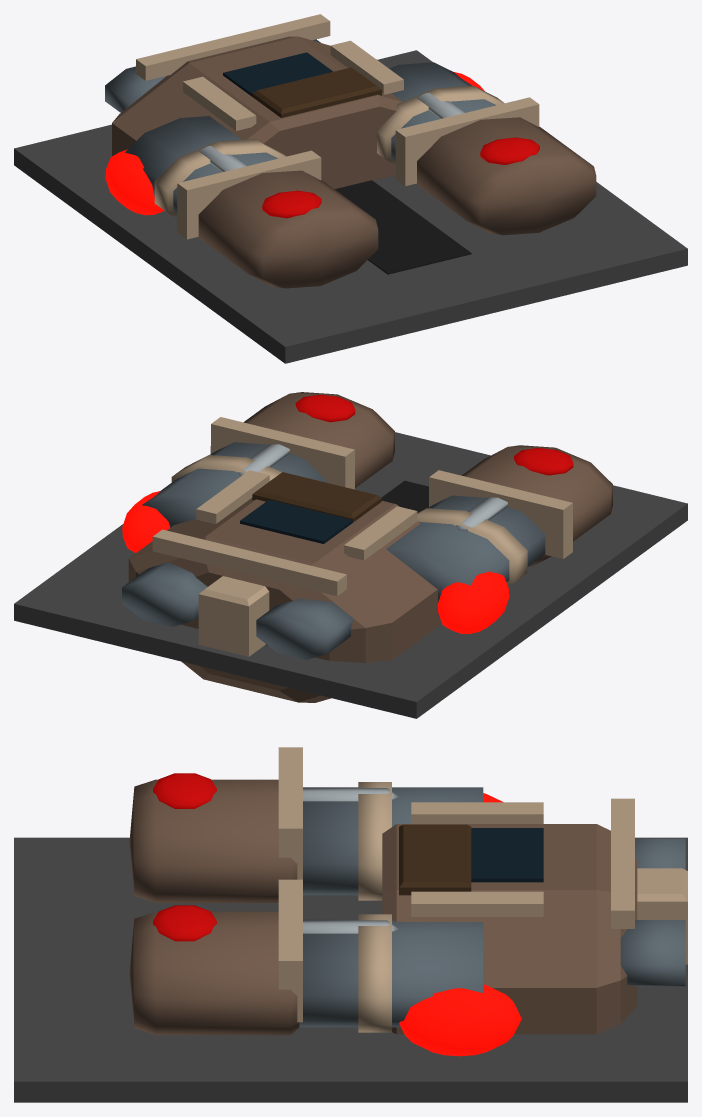
Rendered from newshp-271-f3.glb.
The picture shows the model from 3 angles, top to bottom: view 1: azimuth 30°, elevation 25°; view 2: azimuth 150°, elevation 25°; view 3: azimuth 270°, elevation 25°; orthographic projection. The views are drawn at different scales.
Parts seen in each view (by area): view 1: newshp-271-f3; view 2: newshp-271-f3; view 3: newshp-271-f3.
Part boxes in pixels (x1,y1,x2,y2): newshp-271-f3: [14, 14, 687, 363]; newshp-271-f3: [14, 392, 687, 718]; newshp-271-f3: [14, 747, 687, 1102].
Bounding box in the file's own units: 2 × 0.6988 × 2.33.
